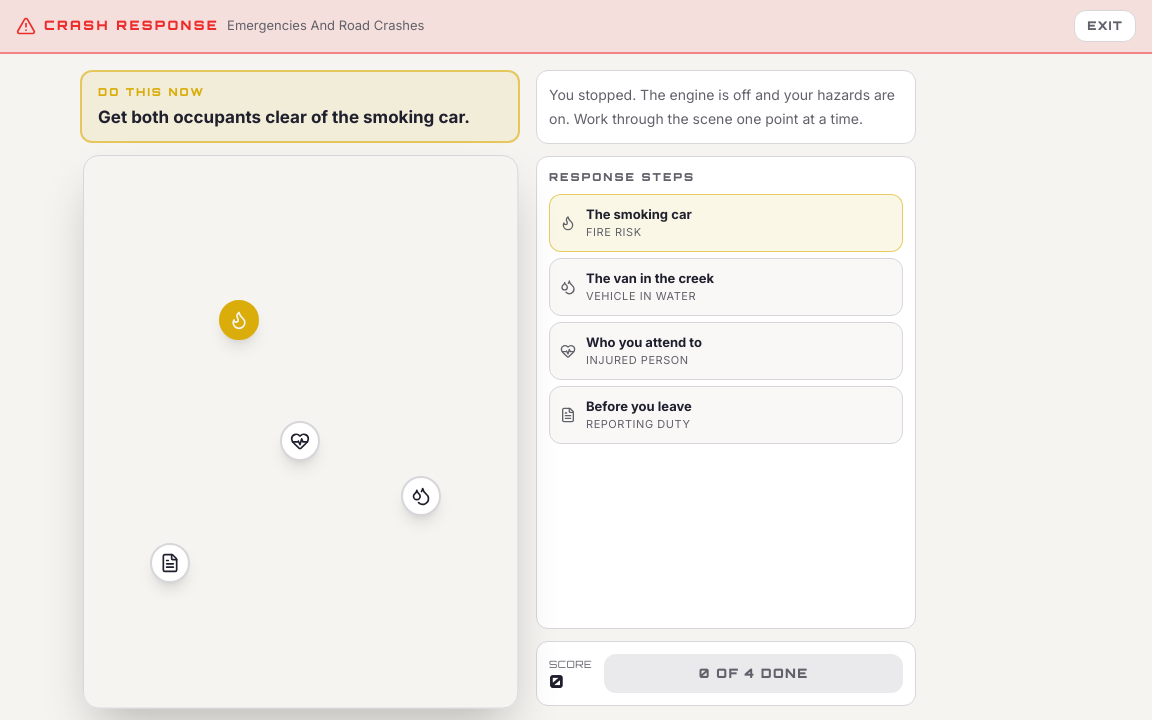
Test: the markers on the scene › opens the point it stands on
The image size is (1152, 720).
Step 1. Click the button named "Vehicle in water: The van in the creek" → click(421, 496), box [401,476,441,516]
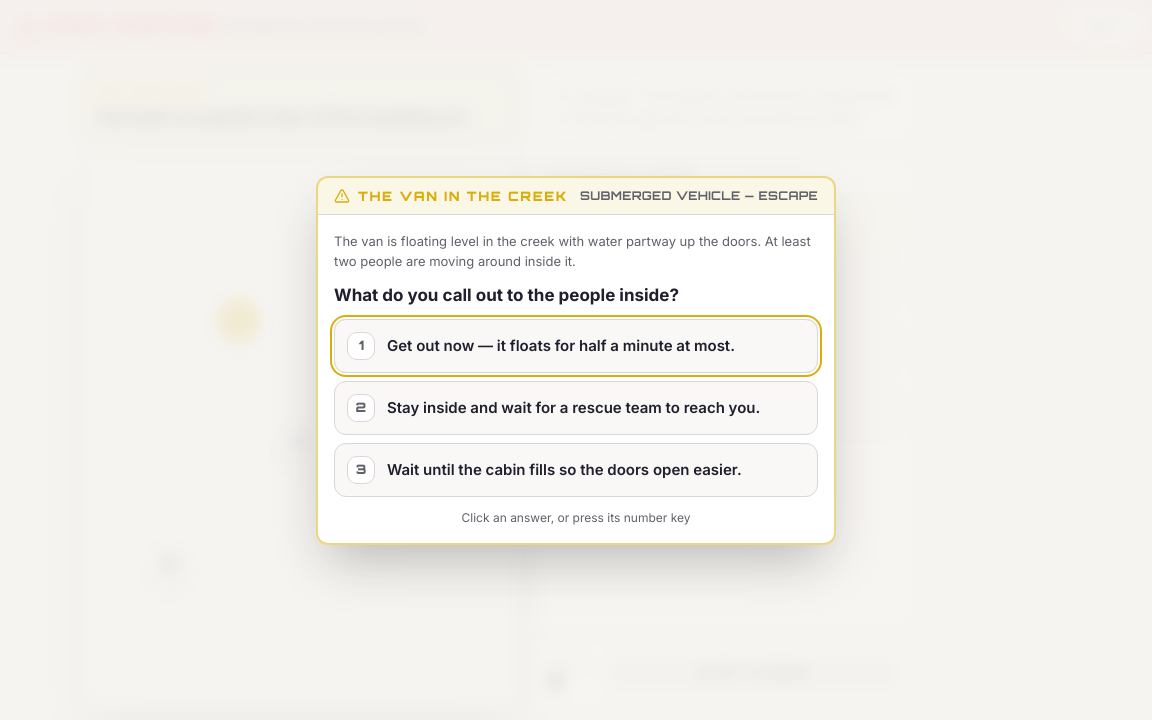
Expected: the dialog shows "What do you call out to the people inside?", [334,284,679,304]
